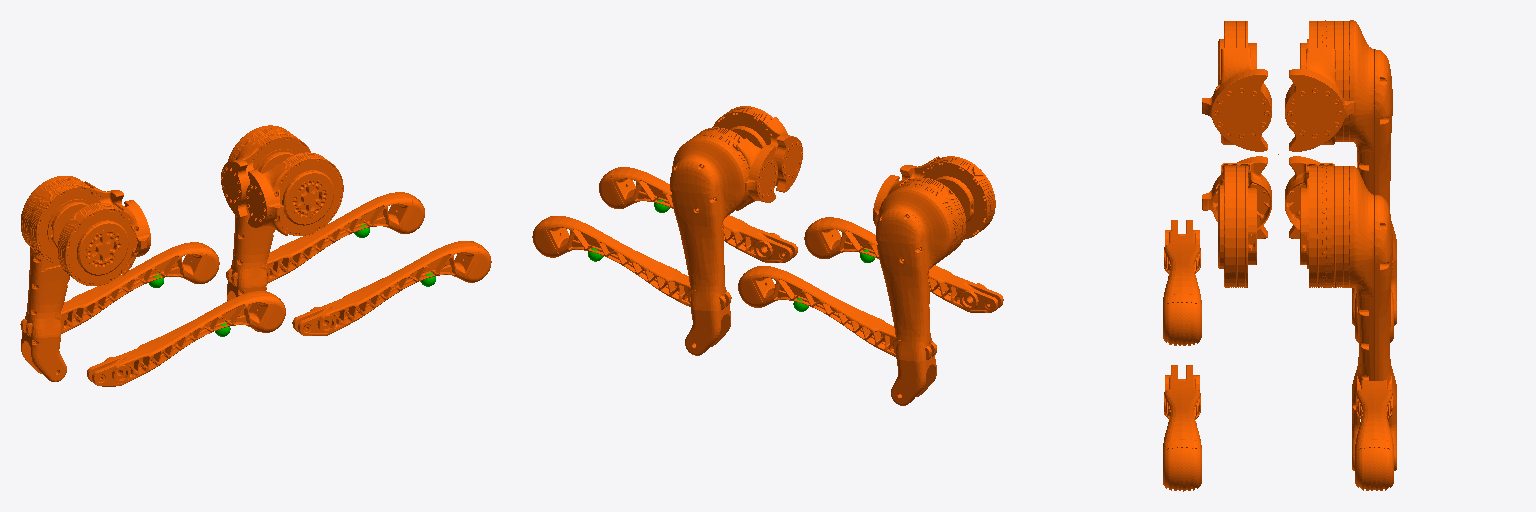
--- Facts derived from the render (not from the file) ---
Views: 3 orthographic renders of the robot side by side, from view 1: azimuth 30°, elevation 25°; view 2: azimuth 150°, elevation 25°; view 3: azimuth 270°, elevation 25°.
Robot: aliengo_description — 19 links, 18 joints (8 revolute, 4 continuous, 6 fixed); root link base; default pose: joints at zero except 4 at the middle of their limits (FR_calf_joint = -1.71, FL_calf_joint = -1.71, RR_calf_joint = -1.71, RL_calf_joint = -1.71).
Links seen in each view (by area): view 1: FR_hip, RR_hip, RL_thigh, RR_calf, FR_calf, FL_calf, RL_calf, FL_thigh, RL_hip, FL_hip; view 2: RL_thigh, FL_thigh, FL_calf, RL_calf, RR_calf, FR_calf, RR_hip, FR_hip, FL_hip, RL_hip; view 3: FL_thigh, RL_thigh, FR_hip, RR_hip, RL_hip, FR_calf, RR_calf, FL_hip, FL_calf.
Link boxes in pixels (<box>): FR_hip: <box>246,152,343,235</box>; RR_hip: <box>58,200,150,285</box>; RL_thigh: <box>21,176,90,381</box>; RR_calf: <box>87,291,285,386</box>; FR_calf: <box>292,241,491,335</box>; FL_calf: <box>226,192,424,286</box>; RL_calf: <box>20,242,219,336</box>; FL_thigh: <box>227,125,299,331</box>; RL_hip: <box>28,181,123,264</box>; FL_hip: <box>221,131,310,217</box>; RL_thigh: <box>876,181,961,405</box>; FL_thigh: <box>670,131,749,355</box>; FL_calf: <box>532,216,731,309</box>; RL_calf: <box>738,266,936,359</box>; RR_calf: <box>804,217,1003,312</box>; FR_calf: <box>599,167,797,262</box>; RR_hip: <box>900,156,995,239</box>; FR_hip: <box>712,106,802,192</box>; FL_hip: <box>694,127,777,210</box>; RL_hip: <box>873,175,965,253</box>; FL_thigh: <box>1307,166,1396,470</box>; RL_thigh: <box>1307,20,1396,325</box>; FR_hip: <box>1202,156,1271,287</box>; RR_hip: <box>1202,21,1271,151</box>; RL_hip: <box>1285,21,1354,151</box>; FR_calf: <box>1163,365,1201,491</box>; RR_calf: <box>1163,220,1201,345</box>; FL_hip: <box>1285,156,1334,287</box>; FL_calf: <box>1355,376,1393,490</box>.
Bounding box of the posed robot: 0.9516 × 0.3275 × 0.4589 m (x, y, z).
10 mesh visuals loaded from 5 distinct referenced files (3 Collada DAE); not drawn: 3 (reference not matched to a file when rendering).

URDF robot description (aliengo_description):
<?xml version="1.0" encoding="utf-8"?>
<!-- =================================================================================== -->
<!-- |    This document was autogenerated by xacro from robot.xacro                    | -->
<!-- |    EDITING THIS FILE BY HAND IS NOT RECOMMENDED                                 | -->
<!-- =================================================================================== -->
<robot name="aliengo_description">
  <material name="black">
    <color rgba="0.0 0.0 0.0 1.0"/>
  </material>
  <material name="blue">
    <color rgba="0.0 0.0 0.8 1.0"/>
  </material>
  <material name="green">
    <color rgba="0.0 0.8 0.0 1.0"/>
  </material>
  <material name="grey">
    <color rgba="0.2 0.2 0.2 1.0"/>
  </material>
  <material name="silver">
    <color rgba="0.913725490196 0.913725490196 0.847058823529 1.0"/>
  </material>
  <material name="orange">
    <color rgba="1.0 0.423529411765 0.0392156862745 1.0"/>
  </material>
  <material name="brown">
    <color rgba="0.870588235294 0.811764705882 0.764705882353 1.0"/>
  </material>
  <material name="red">
    <color rgba="0.8 0.0 0.0 1.0"/>
  </material>
  <material name="white">
    <color rgba="1.0 1.0 1.0 1.0"/>
  </material>
  <!-- ros_control plugin -->
  <gazebo>
    <plugin filename="libgazebo_ros_control.so" name="gazebo_ros_control">
      <robotNamespace>/aliengo_gazebo</robotNamespace>
      <robotSimType>gazebo_ros_control/DefaultRobotHWSim</robotSimType>
    </plugin>
  </gazebo>
  <!-- Show the trajectory of trunk center. -->
  <gazebo>
    <plugin filename="libLinkPlot3DPlugin.so" name="3dplot">
      <frequency>10</frequency>
      <plot>
        <link>base</link>
        <pose>0 0 0 0 0 0</pose>
        <material>Gazebo/Yellow</material>
      </plot>
    </plugin>
  </gazebo>
  <!-- Show the trajectory of foot. You can add another trajectory about another foot. -->
  <!-- <gazebo>
        <plugin name="3dplot" filename="libLinkPlot3DPlugin.so">
            <frequency>100</frequency>
            <plot>
                <link>FL_foot</link>
                <pose>0 0 0 0 0 0</pose>
                <material>Gazebo/Green</material>
            </plot>
        </plugin>
    </gazebo> -->
  <gazebo>
    <plugin filename="libgazebo_ros_force.so" name="gazebo_ros_force">
      <bodyName>trunk</bodyName>
      <topicName>/apply_force/trunk</topicName>
    </plugin>
  </gazebo>
  <gazebo reference="imu_link">
    <gravity>true</gravity>
    <sensor name="imu_sensor" type="imu">
      <always_on>true</always_on>
      <update_rate>1000</update_rate>
      <visualize>true</visualize>
      <topic>__default_topic__</topic>
      <plugin filename="libgazebo_ros_imu_sensor.so" name="imu_plugin">
        <topicName>trunk_imu</topicName>
        <bodyName>imu_link</bodyName>
        <updateRateHZ>1000.0</updateRateHZ>
        <gaussianNoise>0.0</gaussianNoise>
        <xyzOffset>0 0 0</xyzOffset>
        <rpyOffset>0 0 0</rpyOffset>
        <frameName>imu_link</frameName>
      </plugin>
      <pose>0 0 0 0 0 0</pose>
    </sensor>
  </gazebo>
  <!-- Foot contacts. -->
  <gazebo reference="FR_calf">
    <sensor name="FR_foot_contact" type="contact">
      <update_rate>100</update_rate>
      <plugin filename="libunitreeFootContactPlugin.so" name="contactPlugin"/>
      <contact>
        <collision>FR_calf_fixed_joint_lump__FR_foot_collision_1</collision>
      </contact>
    </sensor>
  </gazebo>
  <gazebo reference="FL_calf">
    <sensor name="FL_foot_contact" type="contact">
      <update_rate>100</update_rate>
      <plugin filename="libunitreeFootContactPlugin.so" name="contactPlugin"/>
      <contact>
        <collision>FL_calf_fixed_joint_lump__FL_foot_collision_1</collision>
      </contact>
    </sensor>
  </gazebo>
  <gazebo reference="RR_calf">
    <sensor name="RR_foot_contact" type="contact">
      <update_rate>100</update_rate>
      <plugin filename="libunitreeFootContactPlugin.so" name="contactPlugin"/>
      <contact>
        <collision>RR_calf_fixed_joint_lump__RR_foot_collision_1</collision>
      </contact>
    </sensor>
  </gazebo>
  <gazebo reference="RL_calf">
    <sensor name="RL_foot_contact" type="contact">
      <update_rate>100</update_rate>
      <plugin filename="libunitreeFootContactPlugin.so" name="contactPlugin"/>
      <contact>
        <collision>RL_calf_fixed_joint_lump__RL_foot_collision_1</collision>
      </contact>
    </sensor>
  </gazebo>
  <!-- Visualization of Foot contacts. -->
  <gazebo reference="FR_foot">
    <visual>
      <plugin filename="libunitreeDrawForcePlugin.so" name="drawForcePlugin">
        <topicName>FR_foot_contact</topicName>
      </plugin>
    </visual>
  </gazebo>
  <gazebo reference="FL_foot">
    <visual>
      <plugin filename="libunitreeDrawForcePlugin.so" name="drawForcePlugin">
        <topicName>FL_foot_contact</topicName>
      </plugin>
    </visual>
  </gazebo>
  <gazebo reference="RR_foot">
    <visual>
      <plugin filename="libunitreeDrawForcePlugin.so" name="drawForcePlugin">
        <topicName>RR_foot_contact</topicName>
      </plugin>
    </visual>
  </gazebo>
  <gazebo reference="RL_foot">
    <visual>
      <plugin filename="libunitreeDrawForcePlugin.so" name="drawForcePlugin">
        <topicName>RL_foot_contact</topicName>
      </plugin>
    </visual>
  </gazebo>
  <gazebo reference="base">
    <material>Gazebo/Green</material>
    <turnGravityOff>false</turnGravityOff>
  </gazebo>
  <gazebo reference="trunk">
    <mu1>0.2</mu1>
    <mu2>0.2</mu2>
    <kp value="1000000.0"/>
    <kd value="1.0"/>
  </gazebo>
  <gazebo reference="stick_link">
    <mu1>0.2</mu1>
    <mu2>0.2</mu2>
    <material>Gazebo/White</material>
  </gazebo>
  <gazebo reference="imu_link">
    <mu1>0.2</mu1>
    <mu2>0.2</mu2>
    <material>Gazebo/Red</material>
  </gazebo>
  <!-- FL leg -->
  <gazebo reference="FL_hip">
    <mu1>0.2</mu1>
    <mu2>0.2</mu2>
    <material>Gazebo/DarkGrey</material>
  </gazebo>
  <gazebo reference="FL_thigh">
    <mu1>0.2</mu1>
    <mu2>0.2</mu2>
    <self_collide>1</self_collide>
    <material>Gazebo/DarkGrey</material>
    <kp value="1000000.0"/>
    <kd value="1.0"/>
  </gazebo>
  <gazebo reference="FL_calf">
    <mu1>0.2</mu1>
    <mu2>0.2</mu2>
    <self_collide>1</self_collide>
  </gazebo>
  <gazebo reference="FL_foot">
    <mu1>0.6</mu1>
    <mu2>0.6</mu2>
    <self_collide>1</self_collide>
    <material>Gazebo/DarkGrey</material>
    <kp value="1000000.0"/>
    <kd value="1.0"/>
  </gazebo>
  <!-- FR leg -->
  <gazebo reference="FR_hip">
    <mu1>0.2</mu1>
    <mu2>0.2</mu2>
    <material>Gazebo/DarkGrey</material>
  </gazebo>
  <gazebo reference="FR_thigh">
    <mu1>0.2</mu1>
    <mu2>0.2</mu2>
    <self_collide>1</self_collide>
    <material>Gazebo/DarkGrey</material>
    <kp value="1000000.0"/>
    <kd value="1.0"/>
  </gazebo>
  <gazebo reference="FR_calf">
    <mu1>0.2</mu1>
    <mu2>0.2</mu2>
    <self_collide>1</self_collide>
  </gazebo>
  <gazebo reference="FR_foot">
    <mu1>0.6</mu1>
    <mu2>0.6</mu2>
    <self_collide>1</self_collide>
    <material>Gazebo/DarkGrey</material>
    <kp value="1000000.0"/>
    <kd value="1.0"/>
  </gazebo>
  <!-- RL leg -->
  <gazebo reference="RL_hip">
    <mu1>0.2</mu1>
    <mu2>0.2</mu2>
    <material>Gazebo/DarkGrey</material>
  </gazebo>
  <gazebo reference="RL_thigh">
    <mu1>0.2</mu1>
    <mu2>0.2</mu2>
    <self_collide>1</self_collide>
    <material>Gazebo/DarkGrey</material>
    <kp value="1000000.0"/>
    <kd value="1.0"/>
  </gazebo>
  <gazebo reference="RL_calf">
    <mu1>0.2</mu1>
    <mu2>0.2</mu2>
    <self_collide>1</self_collide>
  </gazebo>
  <gazebo reference="RL_foot">
    <mu1>0.6</mu1>
    <mu2>0.6</mu2>
    <self_collide>1</self_collide>
    <material>Gazebo/DarkGrey</material>
    <kp value="1000000.0"/>
    <kd value="1.0"/>
  </gazebo>
  <!-- RR leg -->
  <gazebo reference="RR_hip">
    <mu1>0.2</mu1>
    <mu2>0.2</mu2>
    <material>Gazebo/DarkGrey</material>
  </gazebo>
  <gazebo reference="RR_thigh">
    <mu1>0.2</mu1>
    <mu2>0.2</mu2>
    <self_collide>1</self_collide>
    <material>Gazebo/DarkGrey</material>
    <kp value="1000000.0"/>
    <kd value="1.0"/>
  </gazebo>
  <gazebo reference="RR_calf">
    <mu1>0.2</mu1>
    <mu2>0.2</mu2>
    <self_collide>1</self_collide>
  </gazebo>
  <gazebo reference="RR_foot">
    <mu1>0.6</mu1>
    <mu2>0.6</mu2>
    <self_collide>1</self_collide>
    <material>Gazebo/DarkGrey</material>
    <kp value="1000000.0"/>
    <kd value="1.0"/>
  </gazebo>
  <!-- Debug mode will hung up the robot, use "true" or "false" to switch it. -->
  <!-- <xacro:if value="$(arg DEBUG)">
        <link name="world"/>
        <joint name="base_static_joint" type="fixed">
            <origin rpy="0 0 0" xyz="0 0 0"/>
            <parent link="world"/>
            <child link="base"/>
        </joint>
    </xacro:if>  -->
  <link name="base">
    <visual>
      <origin rpy="0 0 0" xyz="0 0 0"/>
      <geometry>
        <box size="0.001 0.001 0.001"/>
      </geometry>
    </visual>
  </link>
  <joint name="floating_base" type="fixed">
    <origin rpy="0 0 0" xyz="0 0 0"/>
    <parent link="base"/>
    <child link="trunk"/>
  </joint>
  <link name="trunk">
    <visual>
      <origin rpy="0 0 0" xyz="0 0 0"/>
      <geometry>
        <mesh filename="package://aliengo_description/meshes/trunk.dae" scale="1 1 1"/>
      </geometry>
      <material name="orange"/>
    </visual>
    <collision>
      <origin rpy="0 0 0" xyz="0 0 0"/>
      <geometry>
        <box size="0.647 0.15 0.112"/>
      </geometry>
    </collision>
    <!-- <collision>
            <origin rpy="0 0 0" xyz="0 0 0"/>
            <geometry>
                <mesh filename="package://aliengo_description/meshes/trunk.dae" scale="1 1 1"/>
            </geometry>
        </collision> -->
    <inertial>
      <origin rpy="0 0 0" xyz="0.008465 0.004045 -0.000763"/>
      <mass value="9.041"/>
      <inertia ixx="0.033260231" ixy="-0.000451628" ixz="0.000487603" iyy="0.16117211" iyz="4.8356e-05" izz="0.17460442"/>
    </inertial>
  </link>
  <joint name="imu_joint" type="fixed">
    <parent link="trunk"/>
    <child link="imu_link"/>
    <origin rpy="0 0 0" xyz="0 0 0"/>
  </joint>
  <link name="imu_link">
    <inertial>
      <mass value="0.001"/>
      <origin rpy="0 0 0" xyz="0 0 0"/>
      <inertia ixx="0.0001" ixy="0" ixz="0" iyy="0.000001" iyz="0" izz="0.0001"/>
    </inertial>
    <visual>
      <origin rpy="0 0 0" xyz="0 0 0"/>
      <geometry>
        <box size="0.001 0.001 0.001"/>
      </geometry>
      <material name="red"/>
    </visual>
    <collision>
      <origin rpy="0 0 0" xyz="0 0 0"/>
      <geometry>
        <box size=".001 .001 .001"/>
      </geometry>
    </collision>
  </link>
  <joint name="FR_hip_joint" type="revolute">
    <origin rpy="0 0 0" xyz="0.2399 -0.051 0"/>
    <parent link="trunk"/>
    <child link="FR_hip"/>
    <axis xyz="1 0 0"/>
    <dynamics damping="0" friction="0"/>
    <limit effort="44" lower="-1.2217304764" upper="1.2217304764" velocity="20"/>
  </joint>
  <link name="FR_hip">
    <visual>
      <origin rpy="3.14159265359 0 0" xyz="0 0 0"/>
      <geometry>
        <mesh filename="package://aliengo_description/meshes/hip.dae" scale="1 1 1"/>
      </geometry>
      <material name="orange"/>
    </visual>
    <collision>
      <origin rpy="1.57079632679 0 0" xyz="0 -0.083 0"/>
      <geometry>
        <cylinder length="0.0418" radius="0.046"/>
      </geometry>
    </collision>
    <inertial>
      <origin rpy="0 0 0" xyz="-0.022191 -0.015144 -1.5e-05"/>
      <mass value="1.993"/>
      <inertia ixx="0.002903894" ixy="7.185e-05" ixz="-1.262e-06" iyy="0.004907517" iyz="1.75e-06" izz="0.005586944"/>
    </inertial>
  </link>
  <!-- <joint name="${name}_hip_fixed" type="fixed">
            <origin rpy="0 0 0" xyz="0 ${(thigh_shoulder_length/2.0+hip_offset)*mirror} 0"/>
            <parent link="${name}_hip"/>
            <child link="${name}_thigh_shoulder"/>
        </joint> -->
  <!-- this link is only for collision -->
  <!-- <link name="${name}_thigh_shoulder">
            <collision>
                <origin rpy="${PI/2.0} 0 0" xyz="0 0 0"/>
                <geometry>
                    <cylinder length="${thigh_shoulder_length}" radius="${thigh_shoulder_radius}"/>
                </geometry>
            </collision>
        </link> -->
  <joint name="FR_thigh_joint" type="continuous">
    <origin rpy="0 0 0" xyz="0 -0.083 0"/>
    <parent link="FR_hip"/>
    <child link="FR_thigh"/>
    <axis xyz="0 1 0"/>
    <dynamics damping="0" friction="0"/>
    <limit effort="44" velocity="20"/>
  </joint>
  <link name="FR_thigh">
    <visual>
      <origin rpy="0 0 0" xyz="0 0 0"/>
      <geometry>
        <mesh filename="package://aliengo_description/meshes/thigh_mirror.dae" scale="1 1 1"/>
      </geometry>
      <material name="orange"/>
    </visual>
    <collision>
      <origin rpy="0 1.57079632679 0" xyz="0 0 -0.125"/>
      <geometry>
        <box size="0.25 0.0374 0.043"/>
      </geometry>
    </collision>
    <inertial>
      <origin rpy="0 0 0" xyz="-0.005607 0.003877 -0.048199"/>
      <mass value="0.639"/>
      <inertia ixx="0.005666803" ixy="-3.597e-06" ixz="0.000491446" iyy="0.005847229" iyz="-1.0086e-05" izz="0.000369811"/>
    </inertial>
  </link>
  <joint name="FR_calf_joint" type="revolute">
    <origin rpy="0 0 0" xyz="0 0 -0.25"/>
    <parent link="FR_thigh"/>
    <child link="FR_calf"/>
    <axis xyz="0 1 0"/>
    <dynamics damping="0" friction="0"/>
    <limit effort="55" lower="-2.77507351067" upper="-0.645771823238" velocity="16"/>
  </joint>
  <link name="FR_calf">
    <visual>
      <origin rpy="0 0 0" xyz="0 0 0"/>
      <geometry>
        <mesh filename="package://aliengo_description/meshes/calf.dae" scale="1 1 1"/>
      </geometry>
      <material name="orange"/>
    </visual>
    <collision>
      <origin rpy="0 1.57079632679 0" xyz="0 0 -0.125"/>
      <geometry>
        <box size="0.25 0.0208 0.016"/>
      </geometry>
    </collision>
    <inertial>
      <origin rpy="0 0 0" xyz="0.002781 6.3e-05 -0.142518"/>
      <mass value="0.207"/>
      <inertia ixx="0.006341369" ixy="-3e-09" ixz="-8.7951e-05" iyy="0.006355157" iyz="-1.336e-06" izz="3.9188e-05"/>
    </inertial>
  </link>
  <joint name="FR_foot_fixed" type="fixed">
    <origin rpy="0 0 0" xyz="0 0 -0.25"/>
    <parent link="FR_calf"/>
    <child link="FR_foot"/>
  </joint>
  <link name="FR_foot">
    <visual>
      <origin rpy="0 0 0" xyz="0 0 0"/>
      <geometry>
        <sphere radius="0.0165"/>
      </geometry>
      <material name="green"/>
    </visual>
    <collision>
      <origin rpy="0 0 0" xyz="0 0 0"/>
      <geometry>
        <sphere radius="0.0265"/>
      </geometry>
    </collision>
    <inertial>
      <mass value="0.06"/>
      <inertia ixx="1.6854e-05" ixy="0.0" ixz="0.0" iyy="1.6854e-05" iyz="0.0" izz="1.6854e-05"/>
    </inertial>
  </link>
  <transmission name="FR_hip_tran">
    <type>transmission_interface/SimpleTransmission</type>
    <joint name="FR_hip_joint">
      <hardwareInterface>hardware_interface/EffortJointInterface</hardwareInterface>
    </joint>
    <actuator name="FR_hip_motor">
      <hardwareInterface>hardware_interface/EffortJointInterface</hardwareInterface>
      <mechanicalReduction>1</mechanicalReduction>
    </actuator>
  </transmission>
  <transmission name="FR_thigh_tran">
    <type>transmission_interface/SimpleTransmission</type>
    <joint name="FR_thigh_joint">
      <hardwareInterface>hardware_interface/EffortJointInterface</hardwareInterface>
    </joint>
    <actuator name="FR_thigh_motor">
      <hardwareInterface>hardware_interface/EffortJointInterface</hardwareInterface>
      <mechanicalReduction>1</mechanicalReduction>
    </actuator>
  </transmission>
  <transmission name="FR_calf_tran">
    <type>transmission_interface/SimpleTransmission</type>
    <joint name="FR_calf_joint">
      <hardwareInterface>hardware_interface/EffortJointInterface</hardwareInterface>
    </joint>
    <actuator name="FR_calf_motor">
      <hardwareInterface>hardware_interface/EffortJointInterface</hardwareInterface>
      <mechanicalReduction>1</mechanicalReduction>
    </actuator>
  </transmission>
  <joint name="FL_hip_joint" type="revolute">
    <origin rpy="0 0 0" xyz="0.2399 0.051 0"/>
    <parent link="trunk"/>
    <child link="FL_hip"/>
    <axis xyz="1 0 0"/>
    <dynamics damping="0" friction="0"/>
    <limit effort="44" lower="-1.2217304764" upper="1.2217304764" velocity="20"/>
  </joint>
  <link name="FL_hip">
    <visual>
      <origin rpy="0 0 0" xyz="0 0 0"/>
      <geometry>
        <mesh filename="package://aliengo_description/meshes/hip.dae" scale="1 1 1"/>
      </geometry>
      <material name="orange"/>
    </visual>
    <collision>
      <origin rpy="1.57079632679 0 0" xyz="0 0.083 0"/>
      <geometry>
        <cylinder length="0.0418" radius="0.046"/>
      </geometry>
    </collision>
    <inertial>
      <origin rpy="0 0 0" xyz="-0.022191 0.015144 -1.5e-05"/>
      <mass value="1.993"/>
      <inertia ixx="0.002903894" ixy="-7.185e-05" ixz="-1.262e-06" iyy="0.004907517" iyz="-1.75e-06" izz="0.005586944"/>
    </inertial>
  </link>
  <!-- <joint name="${name}_hip_fixed" type="fixed">
            <origin rpy="0 0 0" xyz="0 ${(thigh_shoulder_length/2.0+hip_offset)*mirror} 0"/>
            <parent link="${name}_hip"/>
            <child link="${name}_thigh_shoulder"/>
        </joint> -->
  <!-- this link is only for collision -->
  <!-- <link name="${name}_thigh_shoulder">
            <collision>
                <origin rpy="${PI/2.0} 0 0" xyz="0 0 0"/>
                <geometry>
                    <cylinder length="${thigh_shoulder_length}" radius="${thigh_shoulder_radius}"/>
                </geometry>
            </collision>
        </link> -->
  <joint name="FL_thigh_joint" type="continuous">
    <origin rpy="0 0 0" xyz="0 0.083 0"/>
    <parent link="FL_hip"/>
    <child link="FL_thigh"/>
    <axis xyz="0 1 0"/>
    <dynamics damping="0" friction="0"/>
    <limit effort="44" velocity="20"/>
  </joint>
  <link name="FL_thigh">
    <visual>
      <origin rpy="0 0 0" xyz="0 0 0"/>
      <geometry>
        <mesh filename="package://aliengo_description/meshes/thigh.dae" scale="1 1 1"/>
      </geometry>
      <material name="orange"/>
    </visual>
    <collision>
      <origin rpy="0 1.57079632679 0" xyz="0 0 -0.125"/>
      <geometry>
        <box size="0.25 0.0374 0.043"/>
      </geometry>
    </collision>
    <inertial>
      <origin rpy="0 0 0" xyz="-0.005607 -0.003877 -0.048199"/>
      <mass value="0.639"/>
      <inertia ixx="0.005666803" ixy="3.597e-06" ixz="0.000491446" iyy="0.005847229" iyz="1.0086e-05" izz="0.000369811"/>
    </inertial>
  </link>
  <joint name="FL_calf_joint" type="revolute">
    <origin rpy="0 0 0" xyz="0 0 -0.25"/>
    <parent link="FL_thigh"/>
    <child link="FL_calf"/>
    <axis xyz="0 1 0"/>
    <dynamics damping="0" friction="0"/>
    <limit effort="55" lower="-2.77507351067" upper="-0.645771823238" velocity="16"/>
  </joint>
  <link name="FL_calf">
    <visual>
      <origin rpy="0 0 0" xyz="0 0 0"/>
      <geometry>
        <mesh filename="package://aliengo_description/meshes/calf.dae" scale="1 1 1"/>
      </geometry>
      <material name="orange"/>
    </visual>
    <collision>
      <origin rpy="0 1.57079632679 0" xyz="0 0 -0.125"/>
      <geometry>
        <box size="0.25 0.0208 0.016"/>
      </geometry>
    </collision>
    <inertial>
      <origin rpy="0 0 0" xyz="0.002781 6.3e-05 -0.142518"/>
      <mass value="0.207"/>
      <inertia ixx="0.006341369" ixy="-3e-09" ixz="-8.7951e-05" iyy="0.006355157" iyz="-1.336e-06" izz="3.9188e-05"/>
    </inertial>
  </link>
  <joint name="FL_foot_fixed" type="fixed">
    <origin rpy="0 0 0" xyz="0 0 -0.25"/>
    <parent link="FL_calf"/>
    <child link="FL_foot"/>
  </joint>
  <link name="FL_foot">
    <visual>
      <origin rpy="0 0 0" xyz="0 0 0"/>
      <geometry>
        <sphere radius="0.0165"/>
      </geometry>
      <material name="green"/>
    </visual>
    <collision>
      <origin rpy="0 0 0" xyz="0 0 0"/>
      <geometry>
        <sphere radius="0.0265"/>
      </geometry>
    </collision>
    <inertial>
      <mass value="0.06"/>
      <inertia ixx="1.6854e-05" ixy="0.0" ixz="0.0" iyy="1.6854e-05" iyz="0.0" izz="1.6854e-05"/>
    </inertial>
  </link>
  <transmission name="FL_hip_tran">
    <type>transmission_interface/SimpleTransmission</type>
    <joint name="FL_hip_joint">
      <hardwareInterface>hardware_interface/EffortJointInterface</hardwareInterface>
    </joint>
    <actuator name="FL_hip_motor">
      <hardwareInterface>hardware_interface/EffortJointInterface</hardwareInterface>
      <mechanicalReduction>1</mechanicalReduction>
    </actuator>
  </transmission>
  <transmission name="FL_thigh_tran">
    <type>transmission_interface/SimpleTransmission</type>
    <joint name="FL_thigh_joint">
      <hardwareInterface>hardware_interface/EffortJointInterface</hardwareInterface>
    </joint>
    <actuator name="FL_thigh_motor">
      <hardwareInterface>hardware_interface/EffortJointInterface</hardwareInterface>
      <mechanicalReduction>1</mechanicalReduction>
    </actuator>
  </transmission>
  <transmission name="FL_calf_tran">
    <type>transmission_interface/SimpleTransmission</type>
    <joint name="FL_calf_joint">
      <hardwareInterface>hardware_interface/EffortJointInterface</hardwareInterface>
    </joint>
    <actuator name="FL_calf_motor">
      <hardwareInterface>hardware_interface/EffortJointInterface</hardwareInterface>
      <mechanicalReduction>1</mechanicalReduction>
    </actuator>
  </transmission>
  <joint name="RR_hip_joint" type="revolute">
    <origin rpy="0 0 0" xyz="-0.2399 -0.051 0"/>
    <parent link="trunk"/>
    <child link="RR_hip"/>
    <axis xyz="1 0 0"/>
    <dynamics damping="0" friction="0"/>
    <limit effort="44" lower="-1.2217304764" upper="1.2217304764" velocity="20"/>
  </joint>
  <link name="RR_hip">
    <visual>
      <origin rpy="3.14159265359 3.14159265359 0" xyz="0 0 0"/>
      <geometry>
        <mesh filename="package://aliengo_description/meshes/hip.dae" scale="1 1 1"/>
      </geometry>
      <material name="orange"/>
    </visual>
    <collision>
      <origin rpy="1.57079632679 0 0" xyz="0 -0.083 0"/>
      <geometry>
        <cylinder length="0.0418" radius="0.046"/>
      </geometry>
    </collision>
    <inertial>
      <origin rpy="0 0 0" xyz="0.022191 -0.015144 -1.5e-05"/>
      <mass value="1.993"/>
      <inertia ixx="0.002903894" ixy="-7.185e-05" ixz="1.262e-06" iyy="0.004907517" iyz="1.75e-06" izz="0.005586944"/>
    </inertial>
  </link>
  <!-- <joint name="${name}_hip_fixed" type="fixed">
            <origin rpy="0 0 0" xyz="0 ${(thigh_shoulder_length/2.0+hip_offset)*mirror} 0"/>
            <parent link="${name}_hip"/>
            <child link="${name}_thigh_shoulder"/>
        </joint> -->
  <!-- this link is only for collision -->
  <!-- <link name="${name}_thigh_shoulder">
            <collision>
                <origin rpy="${PI/2.0} 0 0" xyz="0 0 0"/>
                <geometry>
                    <cylinder length="${thigh_shoulder_length}" radius="${thigh_shoulder_radius}"/>
                </geometry>
            </collision>
        </link> -->
  <joint name="RR_thigh_joint" type="continuous">
    <origin rpy="0 0 0" xyz="0 -0.083 0"/>
    <parent link="RR_hip"/>
    <child link="RR_thigh"/>
    <axis xyz="0 1 0"/>
    <dynamics damping="0" friction="0"/>
    <limit effort="44" velocity="20"/>
  </joint>
  <link name="RR_thigh">
    <visual>
      <origin rpy="0 0 0" xyz="0 0 0"/>
      <geometry>
        <mesh filename="package://aliengo_description/meshes/thigh_mirror.dae" scale="1 1 1"/>
      </geometry>
      <material name="orange"/>
    </visual>
    <collision>
      <origin rpy="0 1.57079632679 0" xyz="0 0 -0.125"/>
      <geometry>
        <box size="0.25 0.0374 0.043"/>
      </geometry>
    </collision>
    <inertial>
      <origin rpy="0 0 0" xyz="-0.005607 0.003877 -0.048199"/>
      <mass value="0.639"/>
      <inertia ixx="0.005666803" ixy="-3.597e-06" ixz="0.000491446" iyy="0.005847229" iyz="-1.0086e-05" izz="0.000369811"/>
    </inertial>
  </link>
  <joint name="RR_calf_joint" type="revolute">
    <origin rpy="0 0 0" xyz="0 0 -0.25"/>
    <parent link="RR_thigh"/>
    <child link="RR_calf"/>
    <axis xyz="0 1 0"/>
    <dynamics damping="0" friction="0"/>
    <limit effort="55" lower="-2.77507351067" upper="-0.645771823238" velocity="16"/>
  </joint>
  <link name="RR_calf">
    <visual>
      <origin rpy="0 0 0" xyz="0 0 0"/>
      <geometry>
        <mesh filename="package://aliengo_description/meshes/calf.dae" scale="1 1 1"/>
      </geometry>
      <material name="orange"/>
    </visual>
    <collision>
      <origin rpy="0 1.57079632679 0" xyz="0 0 -0.125"/>
      <geometry>
        <box size="0.25 0.0208 0.016"/>
      </geometry>
    </collision>
    <inertial>
      <origin rpy="0 0 0" xyz="0.002781 6.3e-05 -0.142518"/>
      <mass value="0.207"/>
      <inertia ixx="0.006341369" ixy="-3e-09" ixz="-8.7951e-05" iyy="0.006355157" iyz="-1.336e-06" izz="3.9188e-05"/>
    </inertial>
  </link>
  <joint name="RR_foot_fixed" type="fixed">
    <origin rpy="0 0 0" xyz="0 0 -0.25"/>
    <parent link="RR_calf"/>
    <child link="RR_foot"/>
  </joint>
  <link name="RR_foot">
    <visual>
      <origin rpy="0 0 0" xyz="0 0 0"/>
      <geometry>
        <sphere radius="0.0165"/>
      </geometry>
      <material name="green"/>
    </visual>
    <collision>
      <origin rpy="0 0 0" xyz="0 0 0"/>
      <geometry>
        <sphere radius="0.0265"/>
      </geometry>
    </collision>
    <inertial>
      <mass value="0.06"/>
      <inertia ixx="1.6854e-05" ixy="0.0" ixz="0.0" iyy="1.6854e-05" iyz="0.0" izz="1.6854e-05"/>
    </inertial>
  </link>
  <transmission name="RR_hip_tran">
    <type>transmission_interface/SimpleTransmission</type>
    <joint name="RR_hip_joint">
      <hardwareInterface>hardware_interface/EffortJointInterface</hardwareInterface>
    </joint>
    <actuator name="RR_hip_motor">
      <hardwareInterface>hardware_interface/EffortJointInterface</hardwareInterface>
      <mechanicalReduction>1</mechanicalReduction>
    </actuator>
  </transmission>
  <transmission name="RR_thigh_tran">
    <type>transmission_interface/SimpleTransmission</type>
    <joint name="RR_thigh_joint">
      <hardwareInterface>hardware_interface/EffortJointInterface</hardwareInterface>
    </joint>
    <actuator name="RR_thigh_motor">
      <hardwareInterface>hardware_interface/EffortJointInterface</hardwareInterface>
      <mechanicalReduction>1</mechanicalReduction>
    </actuator>
  </transmission>
  <transmission name="RR_calf_tran">
    <type>transmission_interface/SimpleTransmission</type>
    <joint name="RR_calf_joint">
      <hardwareInterface>hardware_interface/EffortJointInterface</hardwareInterface>
    </joint>
    <actuator name="RR_calf_motor">
      <hardwareInterface>hardware_interface/EffortJointInterface</hardwareInterface>
      <mechanicalReduction>1</mechanicalReduction>
    </actuator>
  </transmission>
  <joint name="RL_hip_joint" type="revolute">
    <origin rpy="0 0 0" xyz="-0.2399 0.051 0"/>
    <parent link="trunk"/>
    <child link="RL_hip"/>
    <axis xyz="1 0 0"/>
    <dynamics damping="0" friction="0"/>
    <limit effort="44" lower="-1.2217304764" upper="1.2217304764" velocity="20"/>
  </joint>
  <link name="RL_hip">
    <visual>
      <origin rpy="0 3.14159265359 0" xyz="0 0 0"/>
      <geometry>
        <mesh filename="package://aliengo_description/meshes/hip.dae" scale="1 1 1"/>
      </geometry>
      <material name="orange"/>
    </visual>
    <collision>
      <origin rpy="1.57079632679 0 0" xyz="0 0.083 0"/>
      <geometry>
        <cylinder length="0.0418" radius="0.046"/>
      </geometry>
    </collision>
    <inertial>
      <origin rpy="0 0 0" xyz="0.022191 0.015144 -1.5e-05"/>
      <mass value="1.993"/>
      <inertia ixx="0.002903894" ixy="7.185e-05" ixz="1.262e-06" iyy="0.004907517" iyz="-1.75e-06" izz="0.005586944"/>
    </inertial>
  </link>
  <!-- <joint name="${name}_hip_fixed" type="fixed">
            <origin rpy="0 0 0" xyz="0 ${(thigh_shoulder_length/2.0+hip_offset)*mirror} 0"/>
            <parent link="${name}_hip"/>
            <child link="${name}_thigh_shoulder"/>
        </joint> -->
  <!-- this link is only for collision -->
  <!-- <link name="${name}_thigh_shoulder">
            <collision>
                <origin rpy="${PI/2.0} 0 0" xyz="0 0 0"/>
                <geometry>
                    <cylinder length="${thigh_shoulder_length}" radius="${thigh_shoulder_radius}"/>
                </geometry>
            </collision>
        </link> -->
  <joint name="RL_thigh_joint" type="continuous">
    <origin rpy="0 0 0" xyz="0 0.083 0"/>
    <parent link="RL_hip"/>
    <child link="RL_thigh"/>
    <axis xyz="0 1 0"/>
    <dynamics damping="0" friction="0"/>
    <limit effort="44" velocity="20"/>
  </joint>
  <link name="RL_thigh">
    <visual>
      <origin rpy="0 0 0" xyz="0 0 0"/>
      <geometry>
        <mesh filename="package://aliengo_description/meshes/thigh.dae" scale="1 1 1"/>
      </geometry>
      <material name="orange"/>
    </visual>
    <collision>
      <origin rpy="0 1.57079632679 0" xyz="0 0 -0.125"/>
      <geometry>
        <box size="0.25 0.0374 0.043"/>
      </geometry>
    </collision>
    <inertial>
      <origin rpy="0 0 0" xyz="-0.005607 -0.003877 -0.048199"/>
      <mass value="0.639"/>
      <inertia ixx="0.005666803" ixy="3.597e-06" ixz="0.000491446" iyy="0.005847229" iyz="1.0086e-05" izz="0.000369811"/>
    </inertial>
  </link>
  <joint name="RL_calf_joint" type="revolute">
    <origin rpy="0 0 0" xyz="0 0 -0.25"/>
    <parent link="RL_thigh"/>
    <child link="RL_calf"/>
    <axis xyz="0 1 0"/>
    <dynamics damping="0" friction="0"/>
    <limit effort="55" lower="-2.77507351067" upper="-0.645771823238" velocity="16"/>
  </joint>
  <link name="RL_calf">
    <visual>
      <origin rpy="0 0 0" xyz="0 0 0"/>
      <geometry>
        <mesh filename="package://aliengo_description/meshes/calf.dae" scale="1 1 1"/>
      </geometry>
      <material name="orange"/>
    </visual>
    <collision>
      <origin rpy="0 1.57079632679 0" xyz="0 0 -0.125"/>
      <geometry>
        <box size="0.25 0.0208 0.016"/>
      </geometry>
    </collision>
    <inertial>
      <origin rpy="0 0 0" xyz="0.002781 6.3e-05 -0.142518"/>
      <mass value="0.207"/>
      <inertia ixx="0.006341369" ixy="-3e-09" ixz="-8.7951e-05" iyy="0.006355157" iyz="-1.336e-06" izz="3.9188e-05"/>
    </inertial>
  </link>
  <joint name="RL_foot_fixed" type="fixed">
    <origin rpy="0 0 0" xyz="0 0 -0.25"/>
    <parent link="RL_calf"/>
    <child link="RL_foot"/>
  </joint>
  <link name="RL_foot">
    <visual>
      <origin rpy="0 0 0" xyz="0 0 0"/>
      <geometry>
        <sphere radius="0.0165"/>
      </geometry>
      <material name="green"/>
    </visual>
    <collision>
      <origin rpy="0 0 0" xyz="0 0 0"/>
      <geometry>
        <sphere radius="0.0265"/>
      </geometry>
    </collision>
    <inertial>
      <mass value="0.06"/>
      <inertia ixx="1.6854e-05" ixy="0.0" ixz="0.0" iyy="1.6854e-05" iyz="0.0" izz="1.6854e-05"/>
    </inertial>
  </link>
  <transmission name="RL_hip_tran">
    <type>transmission_interface/SimpleTransmission</type>
    <joint name="RL_hip_joint">
      <hardwareInterface>hardware_interface/EffortJointInterface</hardwareInterface>
    </joint>
    <actuator name="RL_hip_motor">
      <hardwareInterface>hardware_interface/EffortJointInterface</hardwareInterface>
      <mechanicalReduction>1</mechanicalReduction>
    </actuator>
  </transmission>
  <transmission name="RL_thigh_tran">
    <type>transmission_interface/SimpleTransmission</type>
    <joint name="RL_thigh_joint">
      <hardwareInterface>hardware_interface/EffortJointInterface</hardwareInterface>
    </joint>
    <actuator name="RL_thigh_motor">
      <hardwareInterface>hardware_interface/EffortJointInterface</hardwareInterface>
      <mechanicalReduction>1</mechanicalReduction>
    </actuator>
  </transmission>
  <transmission name="RL_calf_tran">
    <type>transmission_interface/SimpleTransmission</type>
    <joint name="RL_calf_joint">
      <hardwareInterface>hardware_interface/EffortJointInterface</hardwareInterface>
    </joint>
    <actuator name="RL_calf_motor">
      <hardwareInterface>hardware_interface/EffortJointInterface</hardwareInterface>
      <mechanicalReduction>1</mechanicalReduction>
    </actuator>
  </transmission>
  <!-- <xacro:stairs stairs="15" xpos="0" ypos="2.0" zpos="0" /> -->
</robot>
